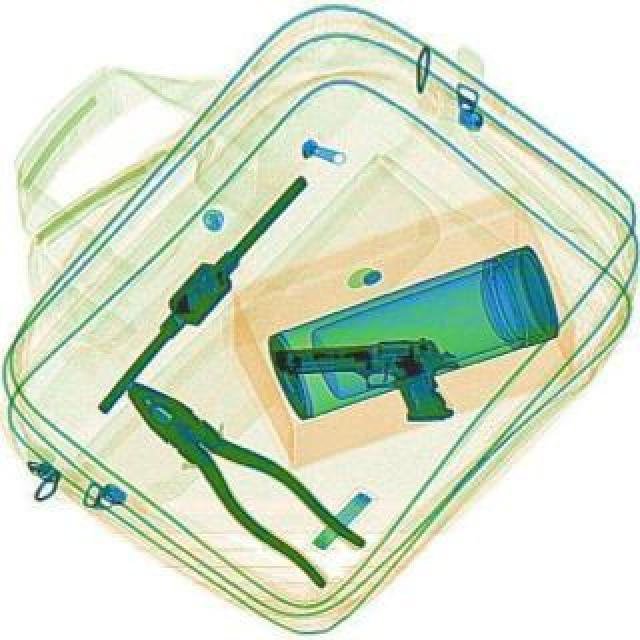gun: (276, 336, 468, 428)
wrench: (108, 358, 376, 590)
